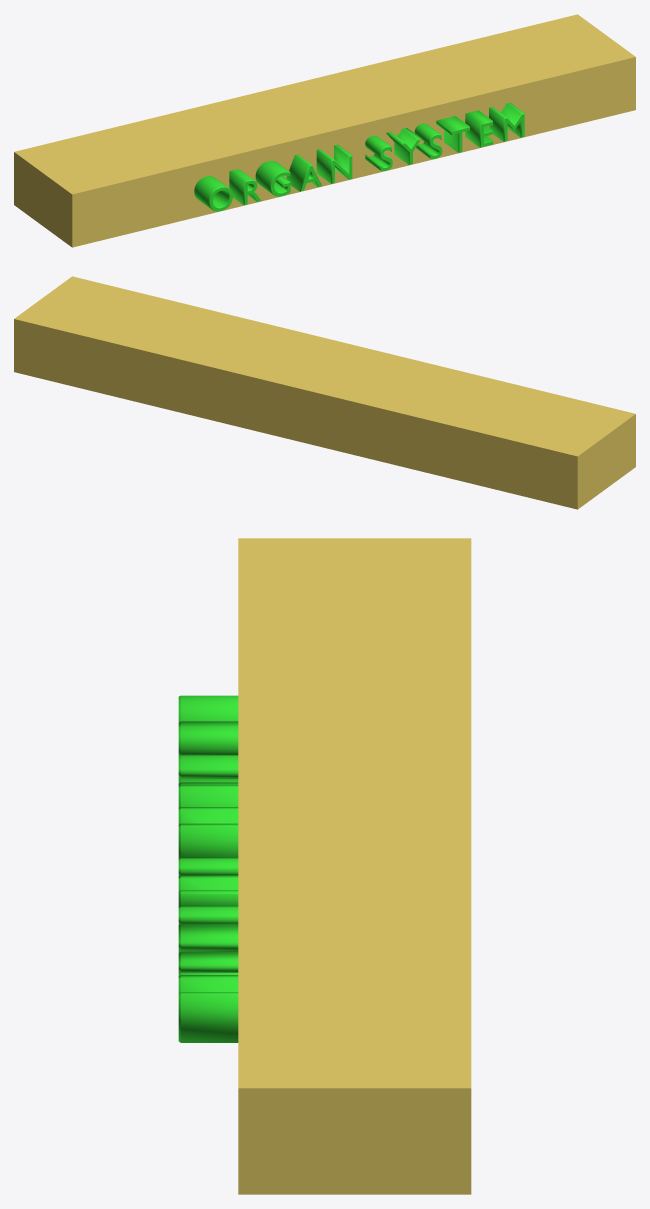
File: organsystem.gltf
3 views of the same model, one above another, from view 1: azimuth 30°, elevation 25°; view 2: azimuth 150°, elevation 25°; view 3: azimuth 270°, elevation 25° (orthographic). The views are drawn at different scales.
Parts seen in each view (by area): view 1: Cube.003, CEELS.003; view 2: Cube.003; view 3: Cube.003, CEELS.003.
Part boxes in pixels (x1=…): Cube.003: x1=14, y1=14, x2=635, y2=247; CEELS.003: x1=194, y1=102, x2=524, y2=211; Cube.003: x1=14, y1=276, x2=635, y2=509; Cube.003: x1=238, y1=538, x2=471, y2=1194; CEELS.003: x1=178, y1=695, x2=238, y2=1042.
Size of the model in its own units: 3.44 by 0.3096 by 0.7725.
